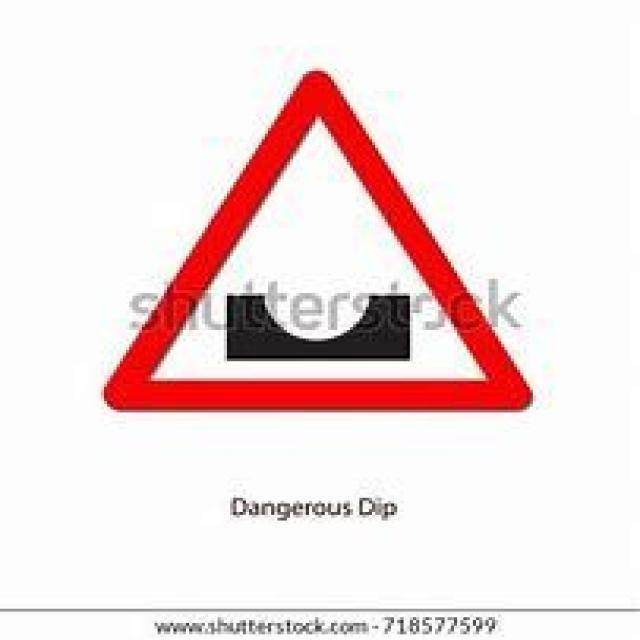dangerous dip: (98, 65, 544, 418)
